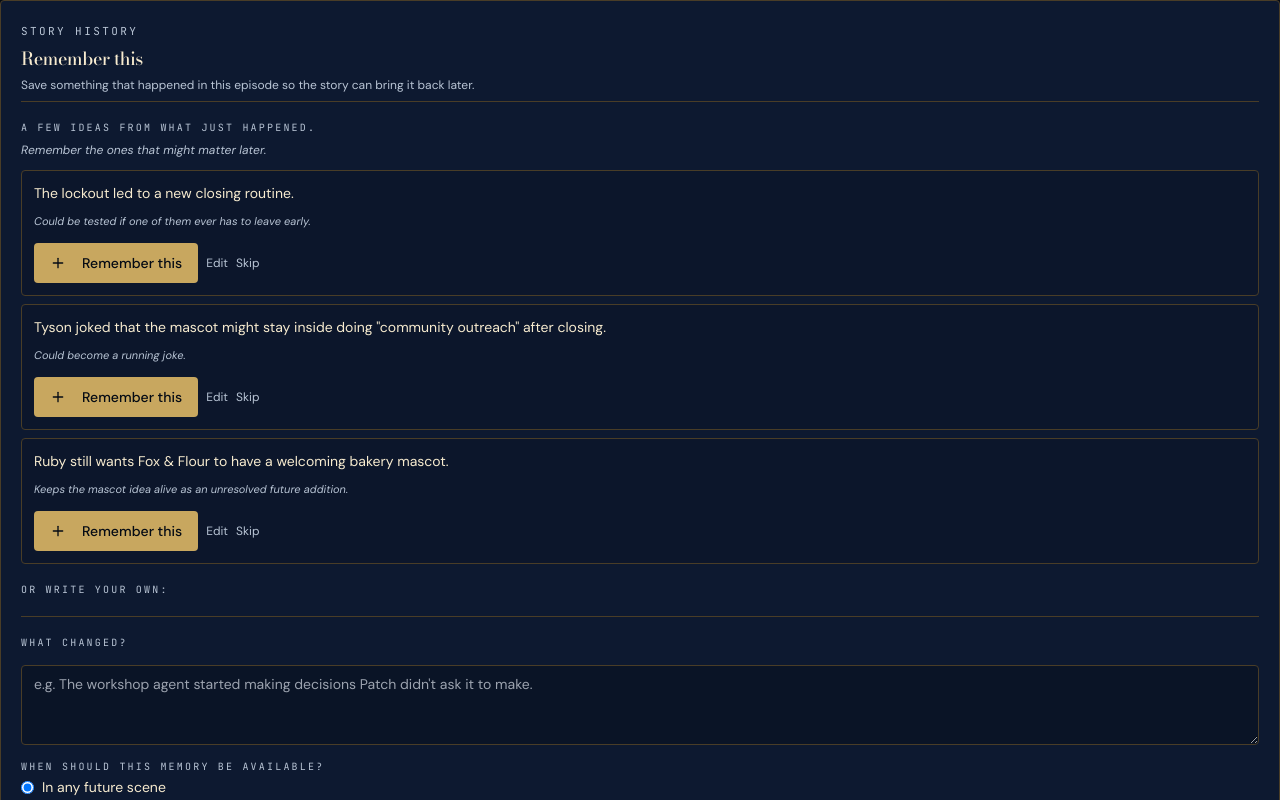
it: SESSION 264 dogfood UX — Remember this panel › Skip dismisses the card locally without a mutation
Expected: the list with test id "composition-suggested-memories-list" is shown, [21,170,1259,564]
Click the button with test id "composition-suggested-memory-skip-1" at (248, 397), box [236,389,259,405]
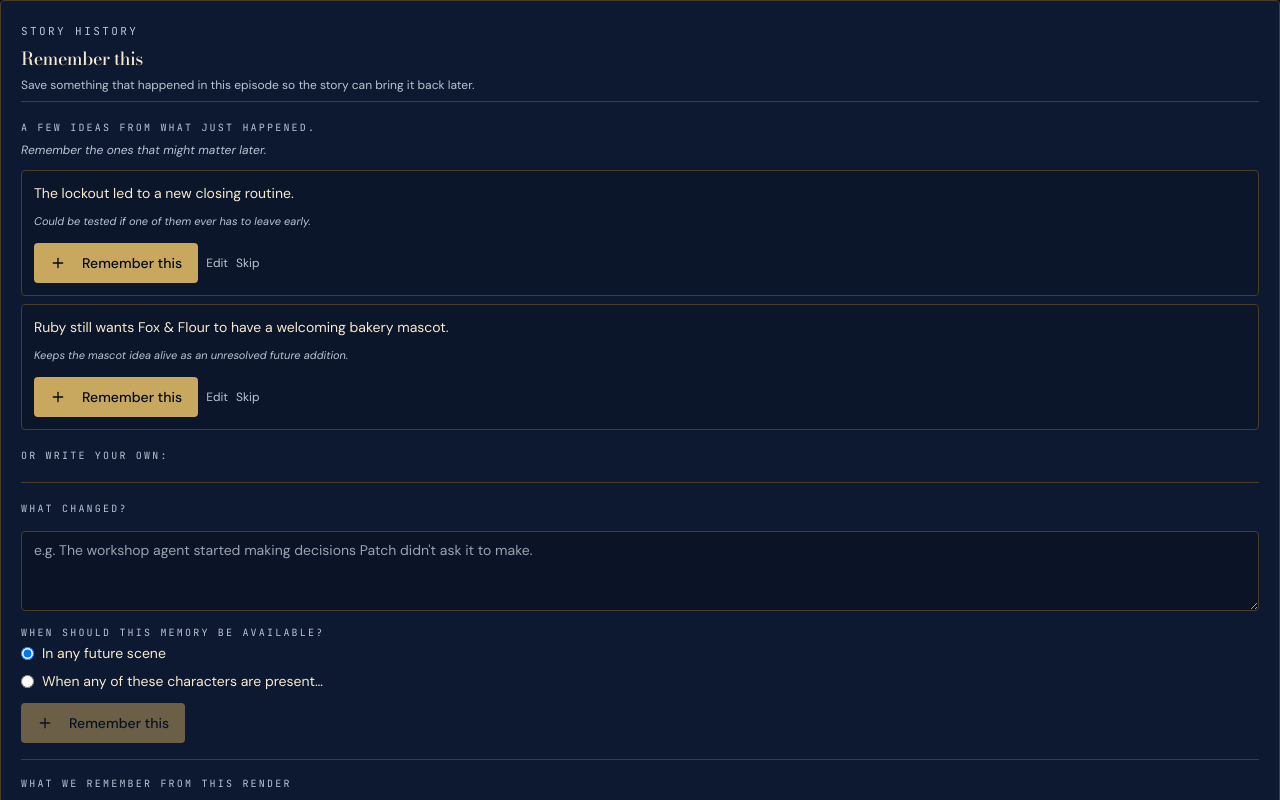
Expected: the list item with test id "composition-suggested-memory-card-0" is shown, [21,170,1259,296]
Expected: the list item with test id "composition-suggested-memory-card-1" is gone
